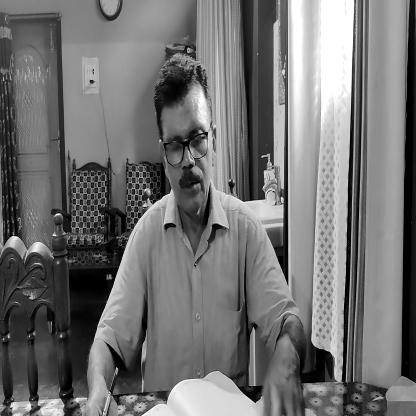Normal: (154, 54, 216, 221)
